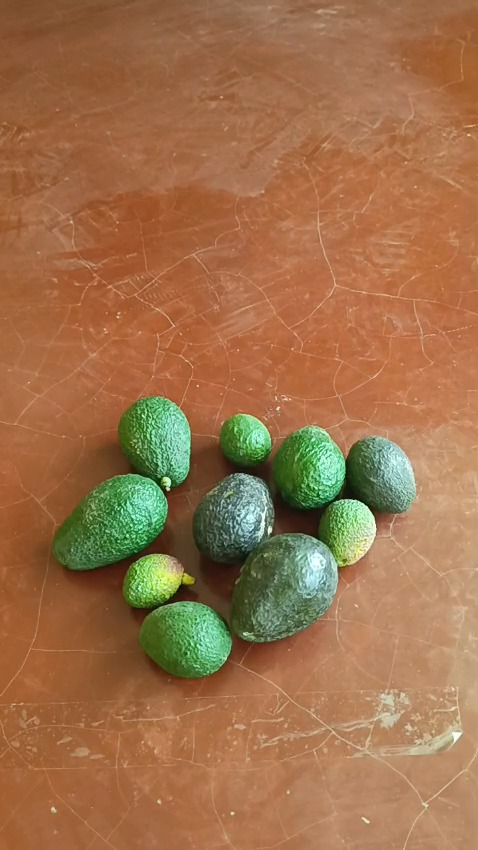Primera: (228, 533, 338, 642), (52, 473, 169, 569), (192, 473, 274, 562), (117, 396, 192, 488), (272, 426, 347, 509)
Segunda: (137, 601, 231, 676), (345, 436, 416, 512)
Tercera: (316, 499, 376, 566), (123, 553, 184, 608), (219, 413, 272, 466)
